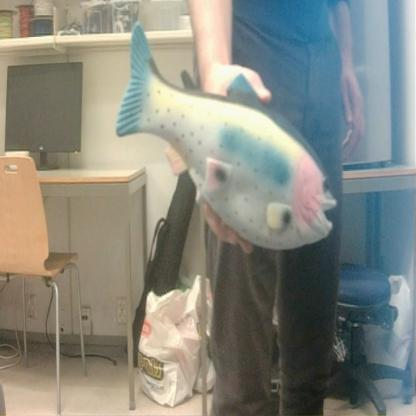rubberfish: (113, 18, 340, 252)
